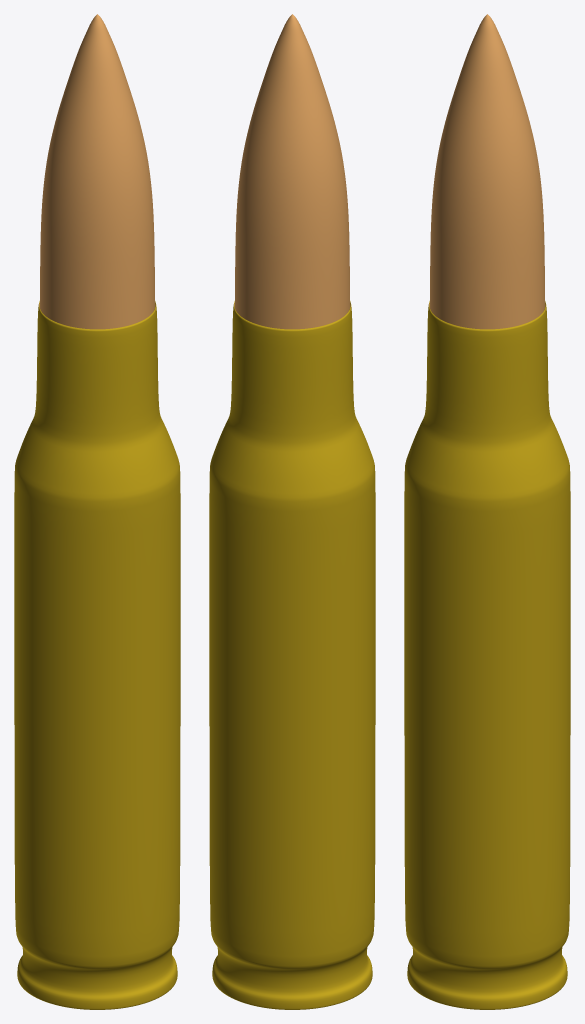
The model's file is bullet.fbx.
The picture shows the model from 3 angles, left to right: view 1: azimuth 30°, elevation 25°; view 2: azimuth 150°, elevation 25°; view 3: azimuth 270°, elevation 25°; orthographic projection.
Visible parts, largest first — view 1: Cylinder.001; view 2: Cylinder.001; view 3: Cylinder.001.
Part boxes in pixels (left/top/right/bottom): Cylinder.001: left=14, top=14, right=180, bottom=1009; Cylinder.001: left=209, top=14, right=375, bottom=1009; Cylinder.001: left=404, top=14, right=570, bottom=1009.
Size of the model in its own units: 71.98 by 460 by 71.98.
